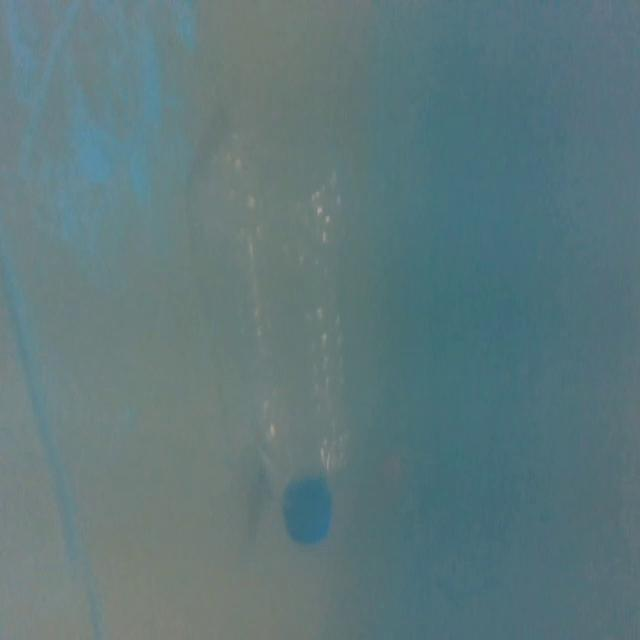plastic bottle: (188, 106, 363, 551)
